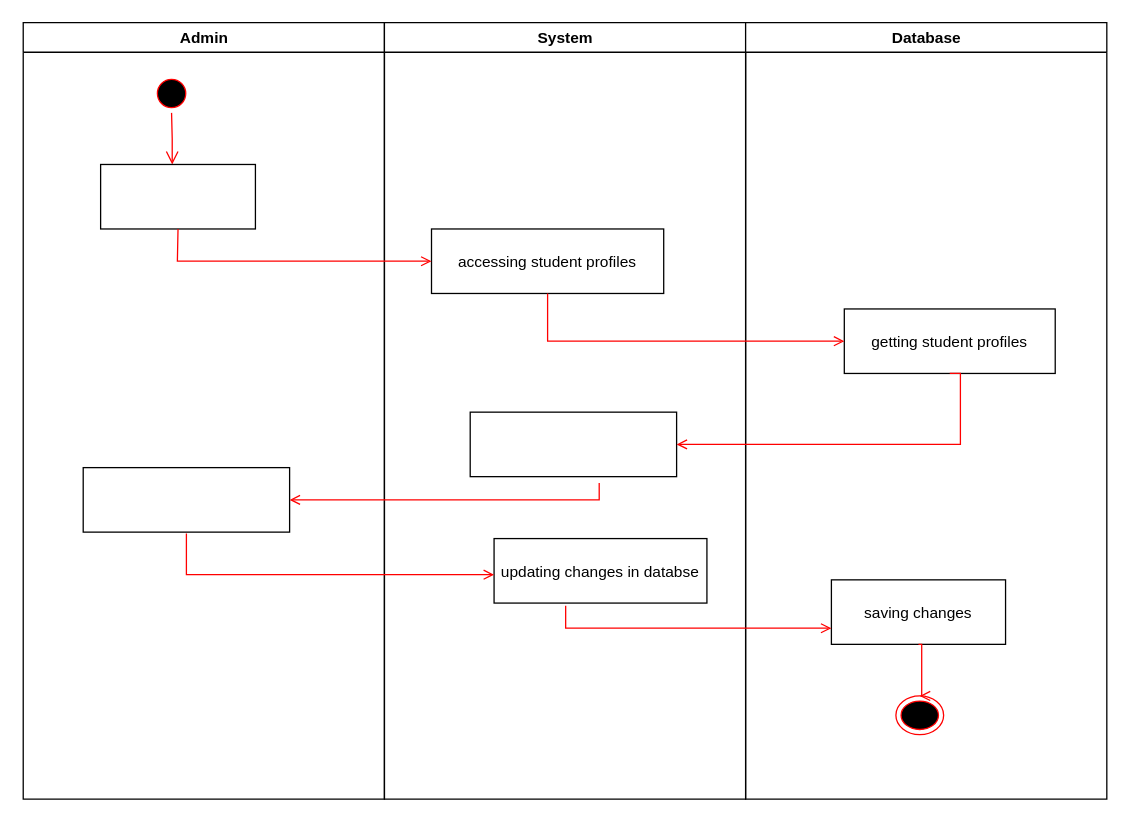
Some shapes in this 1129 by 822 pixel diagram are drawn without their labels. Here are the shapes that lost their labels. From the top down, the centre of each, then its label:
the point at 177,196: admin logged in
the point at 573,444: displaying student profiles
the point at 186,499: updating the profiles
